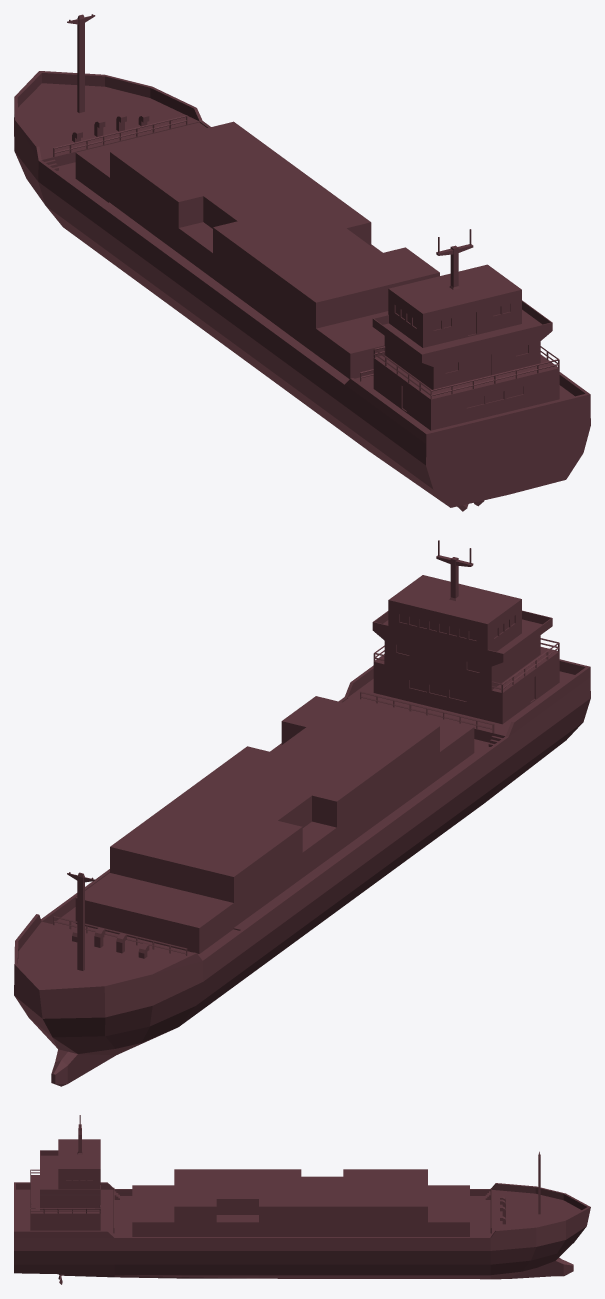
File: ship-cargo.fbx
3 views of the same model, one above another, from view 1: azimuth 30°, elevation 25°; view 2: azimuth 150°, elevation 25°; view 3: azimuth 270°, elevation 25° (orthographic). The views are drawn at different scales.
Visible parts, largest first — view 1: ship-cargo; view 2: ship-cargo; view 3: ship-cargo.
Boxes of the visible parts, <box> form: ship-cargo: <box>14,14,590,511</box>; ship-cargo: <box>14,540,590,1086</box>; ship-cargo: <box>14,1115,590,1284</box>.
Size of the model in its own units: 2.83 by 4.32 by 13.93.
